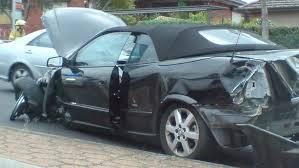doorouter-dent: (57, 67, 106, 120)
quaterpanel-dent: (150, 64, 237, 108)
